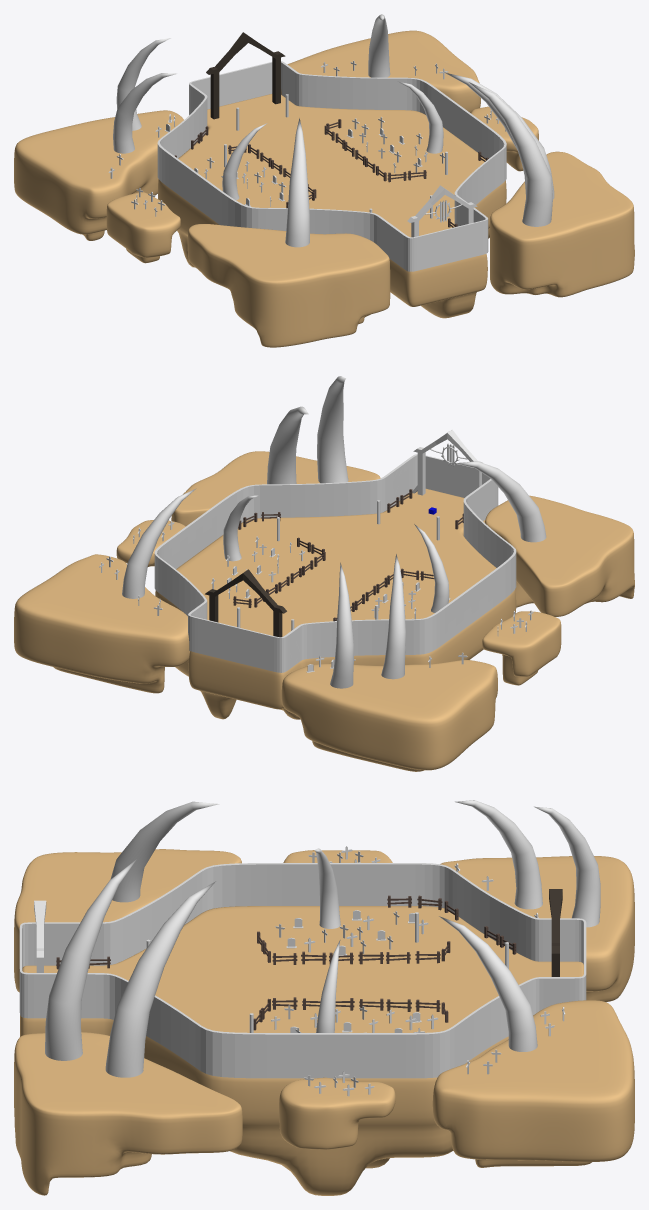
The model's file is Nivel3 Sala4.fbx.
3 renders of one model, top to bottom at view 1: azimuth 30°, elevation 25°; view 2: azimuth 150°, elevation 25°; view 3: azimuth 270°, elevation 25°, orthographic. The views are drawn at different scales.
Visible parts, largest first — view 1: Base 3-4, Base 3-4.001, Cube.008, Cube.149, Cube.007, Cube.148, Cube.153, Hueso Grande.050, Hueso Grande.042, Puerta de paso.018, Hueso Grande.039, Hueso Grande.040 (+6 smaller); view 2: Base 3-4, Base 3-4.001, Cube.007, Cube.148, Cube.008, Cube.149, Cube.153, Hueso Grande.050, Hueso Grande.042, Hueso Grande.040, Hueso Grande.041, Hueso Grande.039 (+6 smaller); view 3: Base 3-4, Base 3-4.001, Cube.148, Cube.149, Cube.007, Cube.008, Cube.152, Hueso Grande.041, Hueso Grande.050, Hueso Grande.040, Hueso Grande.042, Hueso Grande.039 (+6 smaller).
Part boxes in pixels (x1,y1,x2,y2): Base 3-4: (157, 94, 506, 318); Base 3-4.001: (157, 61, 506, 271); Cube.008: (187, 224, 390, 347); Cube.149: (490, 151, 634, 297); Cube.007: (14, 110, 183, 240); Cube.148: (281, 30, 480, 112); Cube.153: (106, 192, 180, 263); Hueso Grande.050: (469, 82, 552, 226); Hueso Grande.042: (285, 118, 309, 247); Puerta de paso.018: (206, 32, 285, 119); Hueso Grande.039: (113, 73, 176, 153); Hueso Grande.040: (368, 14, 390, 77); Base 3-4: (155, 488, 516, 719); Base 3-4.001: (154, 454, 516, 672); Cube.007: (281, 660, 497, 771); Cube.148: (14, 554, 189, 693); Cube.008: (485, 495, 634, 616); Cube.149: (171, 451, 380, 526); Cube.153: (482, 611, 561, 685); Hueso Grande.050: (317, 376, 348, 483); Hueso Grande.042: (456, 461, 546, 542); Hueso Grande.040: (122, 488, 196, 598); Hueso Grande.041: (267, 406, 308, 484); Hueso Grande.039: (381, 554, 405, 679); Base 3-4: (20, 906, 583, 1195); Base 3-4.001: (19, 863, 586, 1078); Cube.148: (432, 1000, 634, 1167); Cube.149: (14, 1032, 242, 1195); Cube.007: (440, 856, 634, 1002); Cube.008: (14, 849, 241, 992); Cube.152: (279, 1077, 395, 1149); Hueso Grande.041: (105, 881, 215, 1077); Hueso Grande.050: (45, 859, 136, 1060); Hueso Grande.040: (439, 916, 537, 1051); Hueso Grande.042: (110, 801, 219, 902); Hueso Grande.039: (455, 800, 542, 909).
Size of the model in its own units: 17195 by 9691 by 16905.
